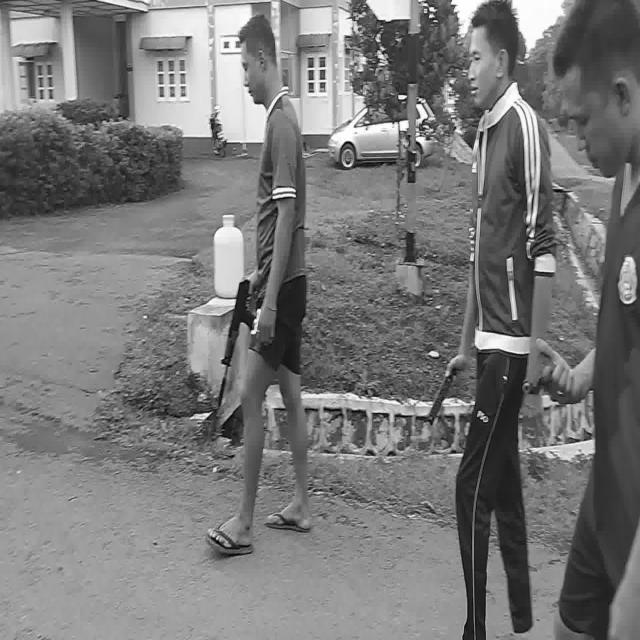gun: (218, 281, 255, 408), (523, 352, 556, 396)
